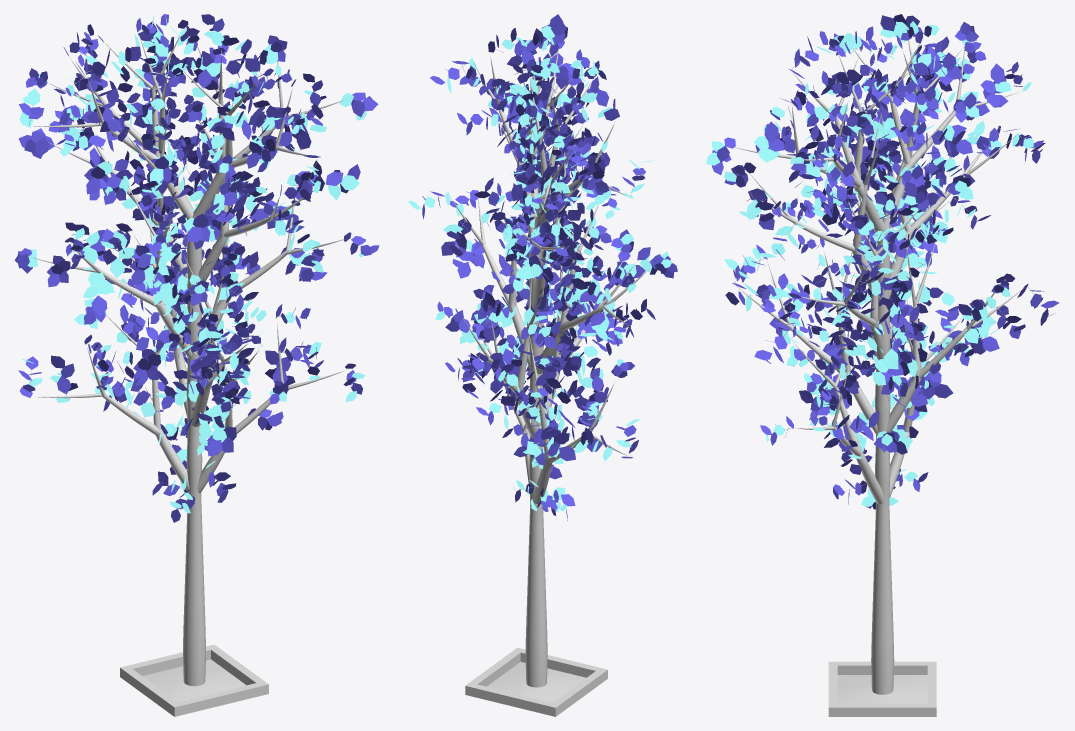
Rendered from SM_Tree.fbx.
The picture shows the model from 3 angles, left to right: view 1: azimuth 30°, elevation 25°; view 2: azimuth 150°, elevation 25°; view 3: azimuth 270°, elevation 25°; orthographic projection. The views are drawn at different scales.
Visible parts, largest first — view 1: Tree; view 2: Tree; view 3: Tree.
Boxes of the visible parts, x1,y1,x2,y2 form: Tree: (14, 14, 379, 716); Tree: (408, 14, 677, 716); Tree: (706, 14, 1059, 716).
Size of the model in its own units: 251 by 555 by 266.
